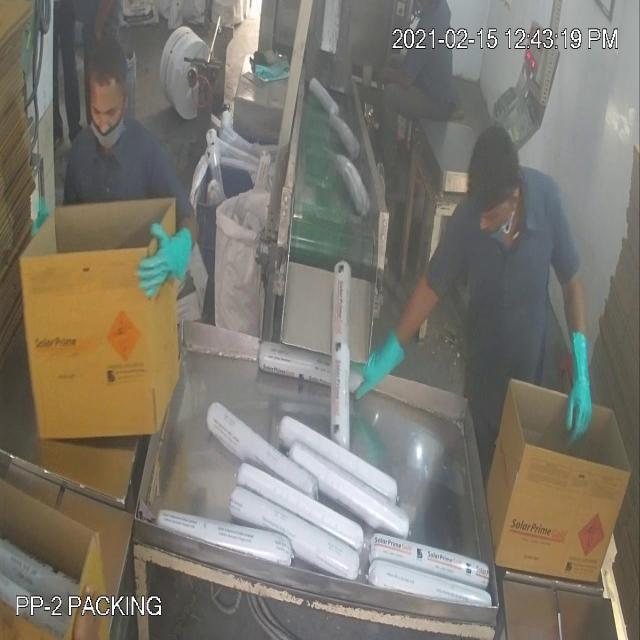gloves: (126, 207, 198, 308), (342, 326, 417, 422), (562, 316, 594, 452)
no-gloves: (373, 56, 411, 98)
